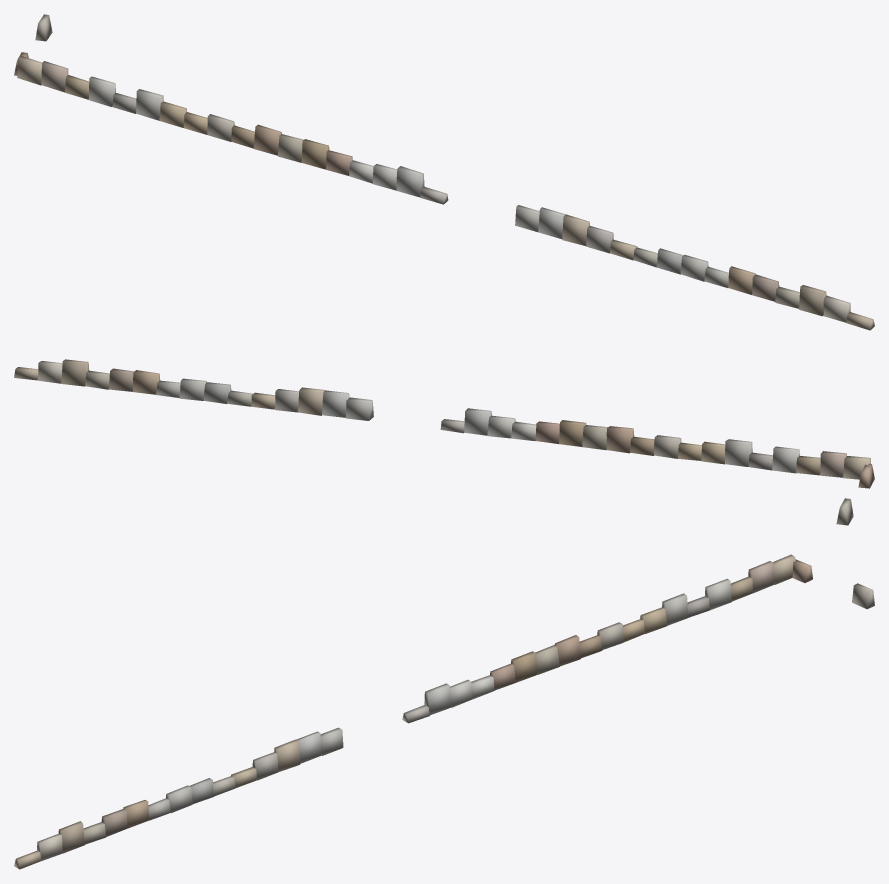
The model's file is farm_-28_-33_far.glb.
The picture shows the model from 3 angles, top to bottom: view 1: azimuth 30°, elevation 25°; view 2: azimuth 210°, elevation 25°; view 3: azimuth 270°, elevation 25°; orthographic projection.
Visible parts, largest first — view 1: geometry_0; view 2: geometry_0; view 3: geometry_0.
Part boxes in pixels (x1,y1,x2,y2): geometry_0: [14, 14, 874, 330]; geometry_0: [14, 359, 874, 525]; geometry_0: [14, 554, 874, 869].
Size of the model in its own units: 32.56 by 6.31 by 53.04.
